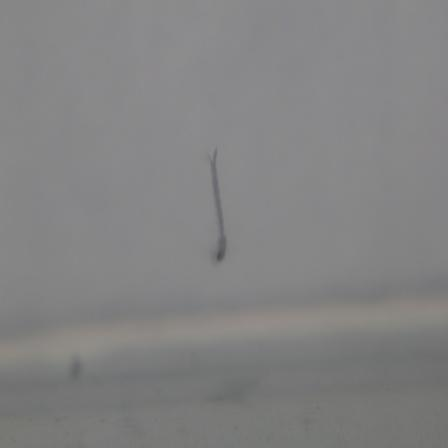Jentik-Nyamuk: (203, 143, 231, 265)
